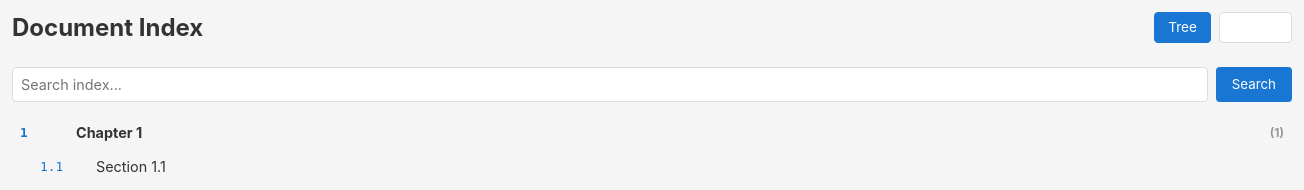
it: IndexView › switches to leaves view
Click the button "Leaves".
click(1255, 27)  # box [1219,12,1292,43]
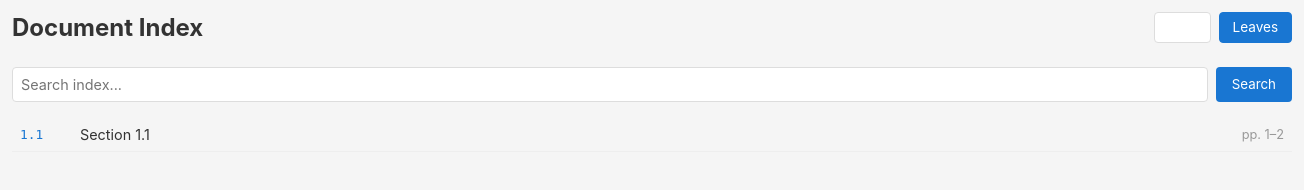
Check: the text "Section 1.1" is shown, box [80,126,150,143]
Check: the text "pp. 1–2" is shown, box [1242,127,1284,142]
